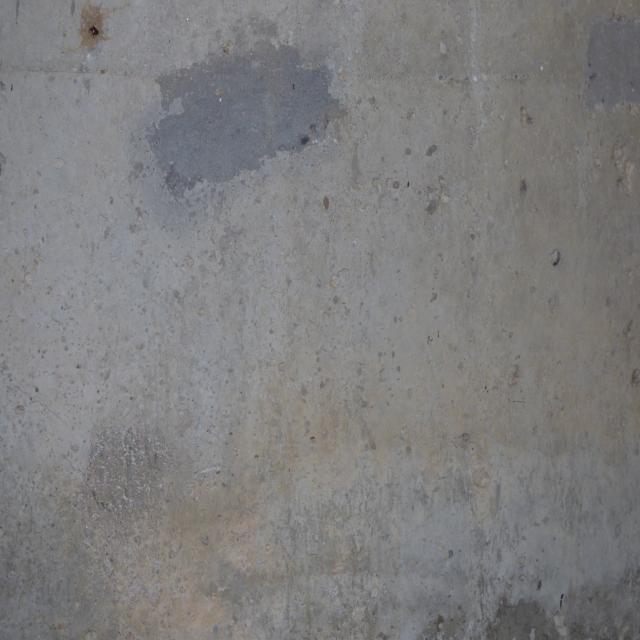corrosion: (72, 0, 116, 56)
